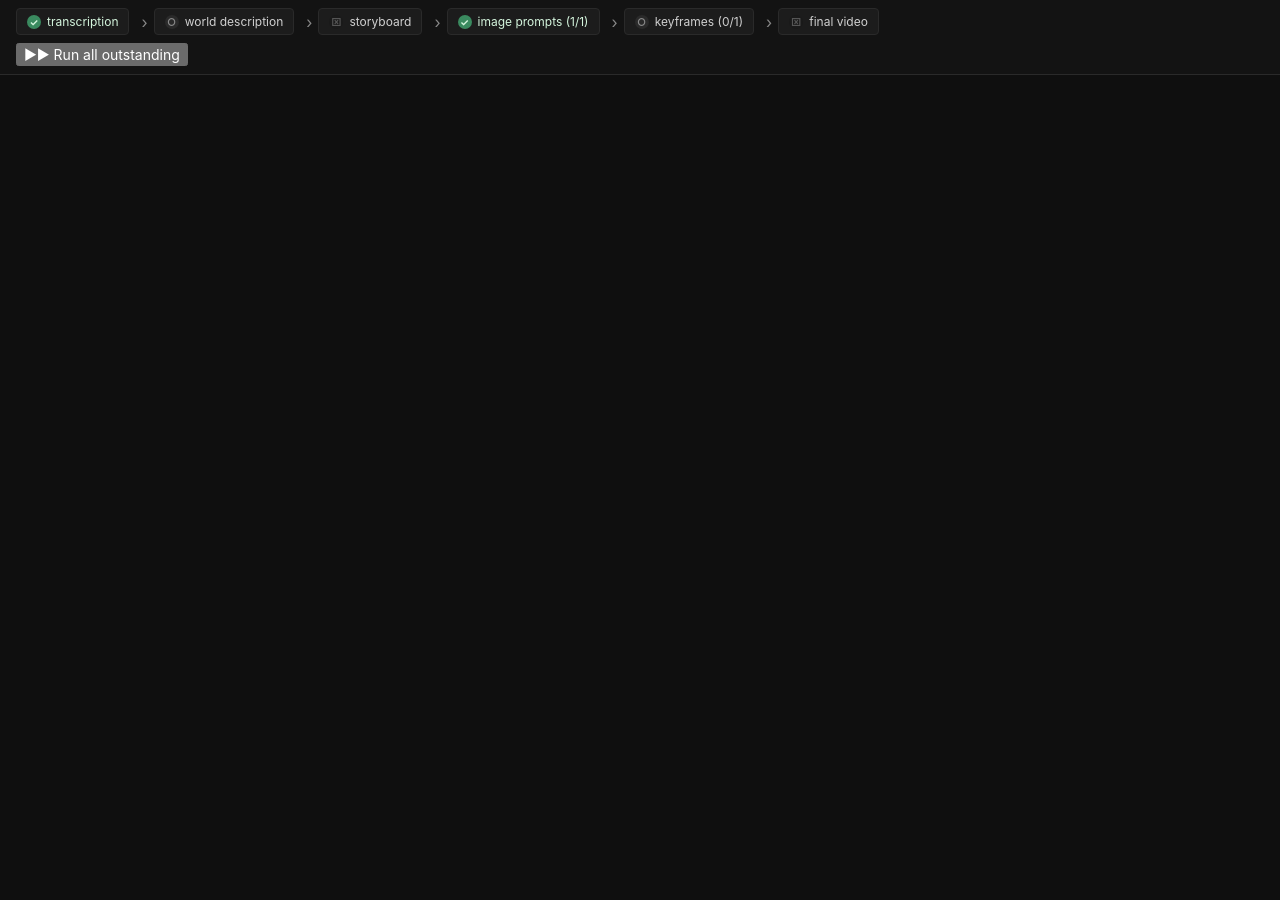
Test: PipelinePanel › setup picker uses approved filter descriptions and abstraction defaults to 0
This screenshot has width=1280, height=900.
Step 1. Click the button "○ world description" → (224, 22), box [154, 8, 294, 35]
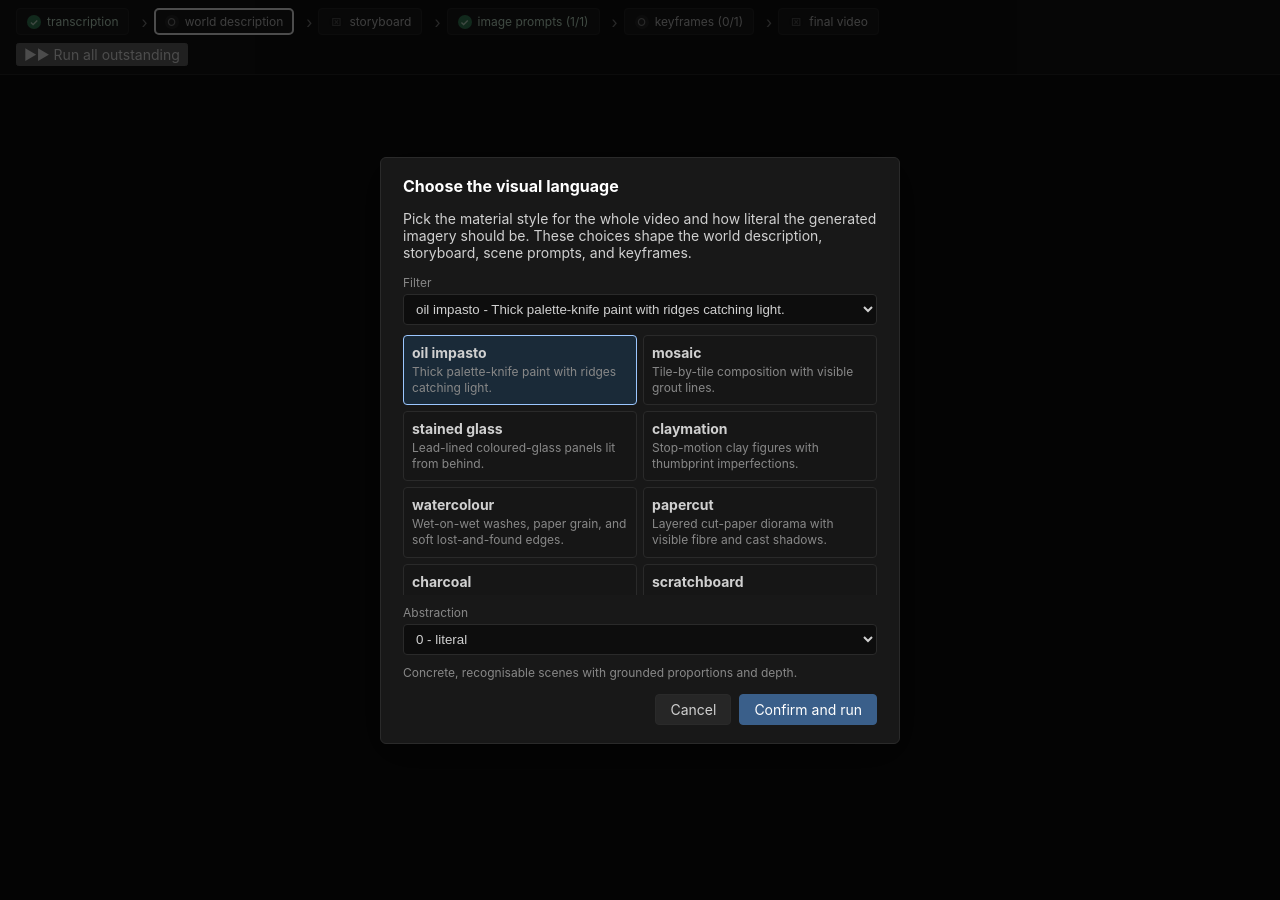
Check: the heading "Choose the visual language" is shown, box [403, 176, 619, 196]
Check: the dropdown labelled "Abstraction" shows "0 - literal", box [403, 624, 877, 654]
Check: the text "Concrete, recognisable scenes" is shown, box [403, 664, 797, 680]
